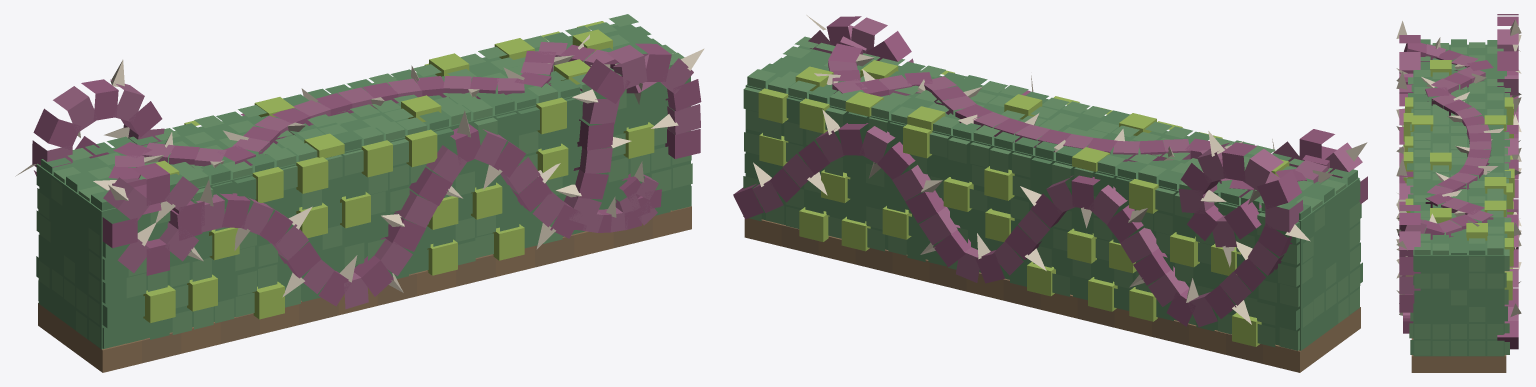
The model's file is thornwood_hedge_roblox.glb.
3 renders of one model, left to right at view 1: azimuth 30°, elevation 25°; view 2: azimuth 150°, elevation 25°; view 3: azimuth 270°, elevation 25°, orthographic. The views are drawn at different scales.
Parts seen in each view (by area): view 1: BrambleHedge; view 2: BrambleHedge; view 3: BrambleHedge.
Boxes of the visible parts, left/top/right/bottom form: BrambleHedge: left=15, top=14, right=704, bottom=372; BrambleHedge: left=733, top=15, right=1367, bottom=372; BrambleHedge: left=1396, top=14, right=1521, bottom=372.
Size of the model in its own units: 3.12 by 1.17 by 0.754.
